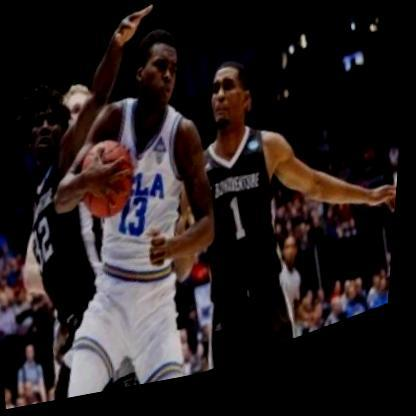basketball: (70, 128, 150, 238)
